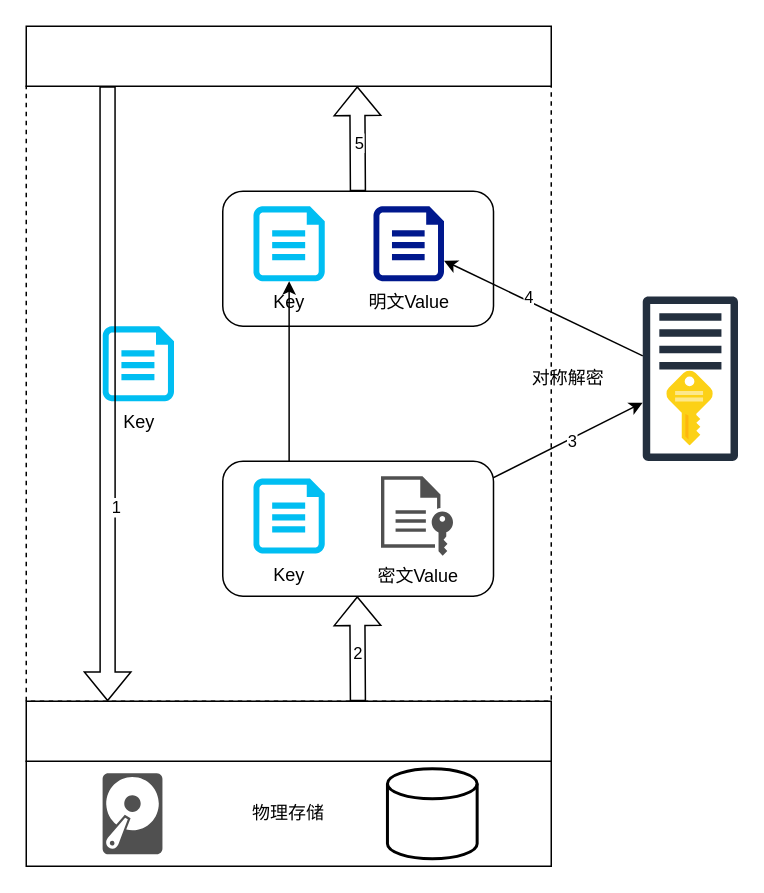
This 764x893 diagram has some shape labels left out. The centre of each missing label's shape, as x and y in pixels:
"加密机" goes at point (689, 378).
"存储模块对外接口" goes at point (288, 55).
"统一数据库服务接口（DB Provider）" goes at point (288, 730).
